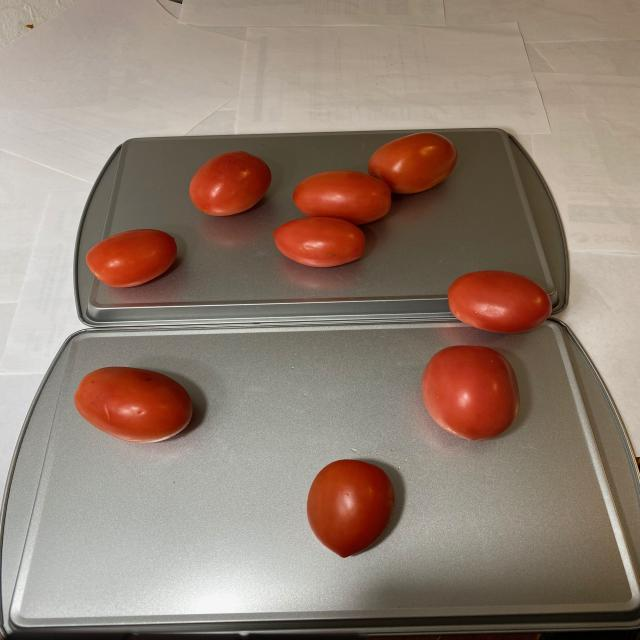tomato: (83, 133, 460, 285), (411, 270, 553, 443), (300, 458, 399, 562), (69, 365, 198, 441)
